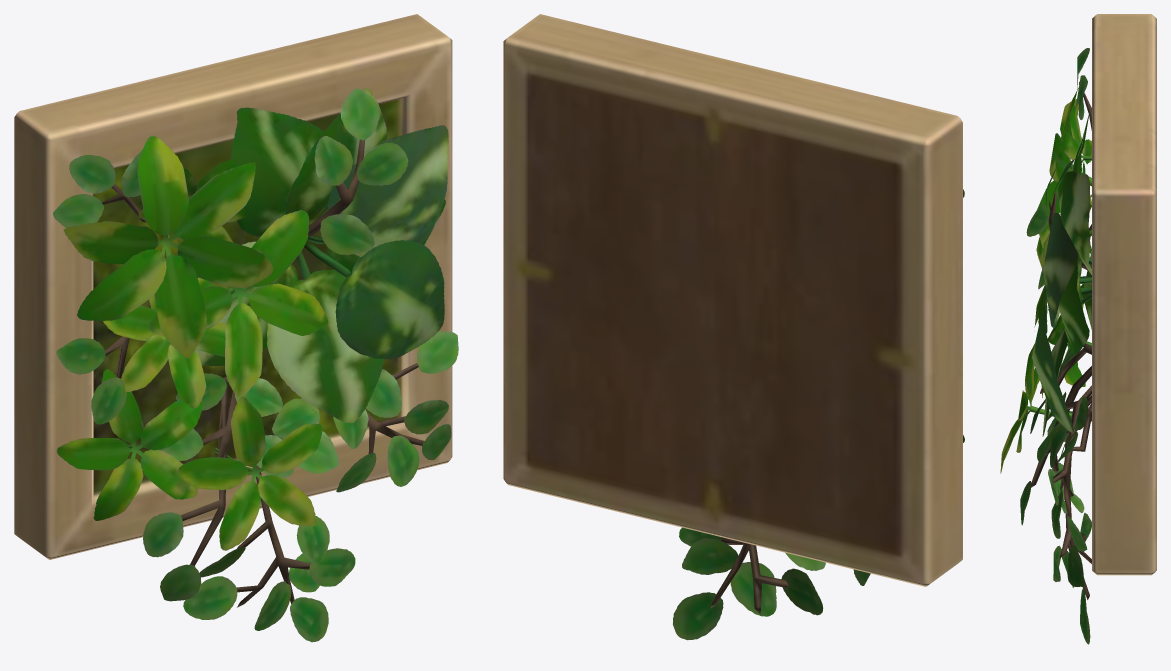
3 views of the same model, side by side, from view 1: azimuth 30°, elevation 25°; view 2: azimuth 150°, elevation 25°; view 3: azimuth 270°, elevation 25° (orthographic). The views are drawn at different scales.
Size of the model in its own units: 5.09 by 6.84 by 1.84.
Materials: 1 (1 with a texture image).
